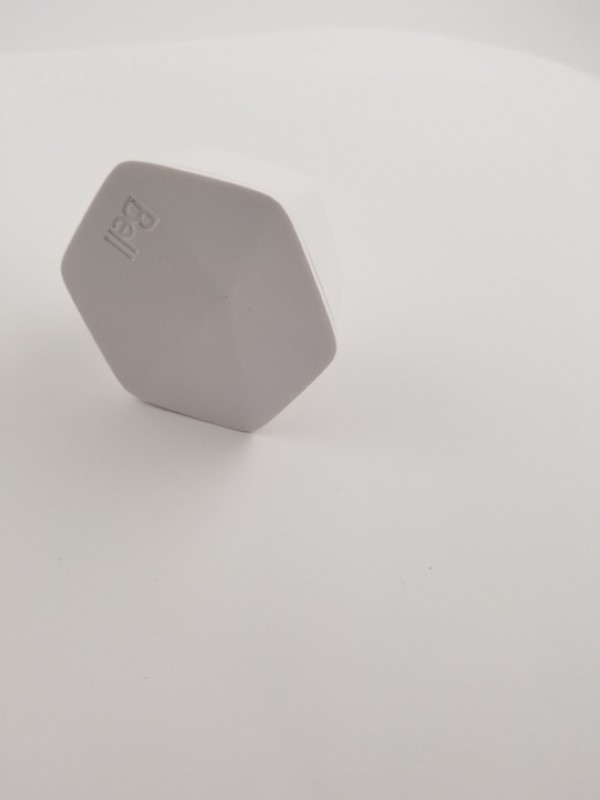pod: (53, 153, 355, 444)
